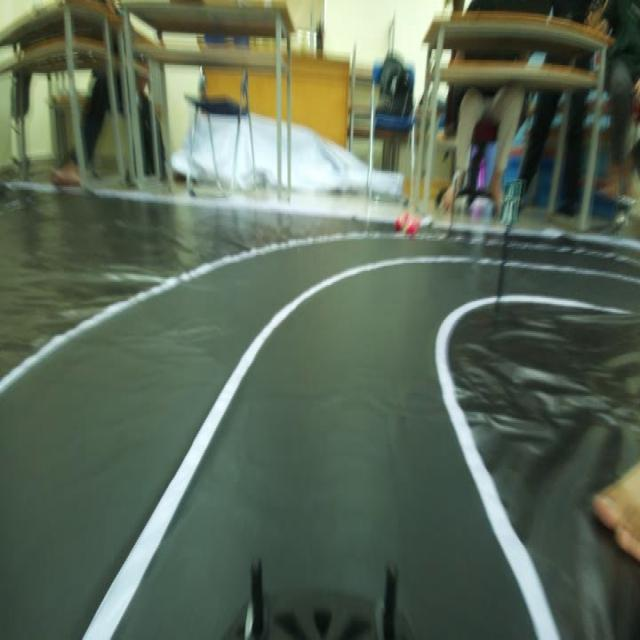highway_entry: (502, 175, 519, 234)
